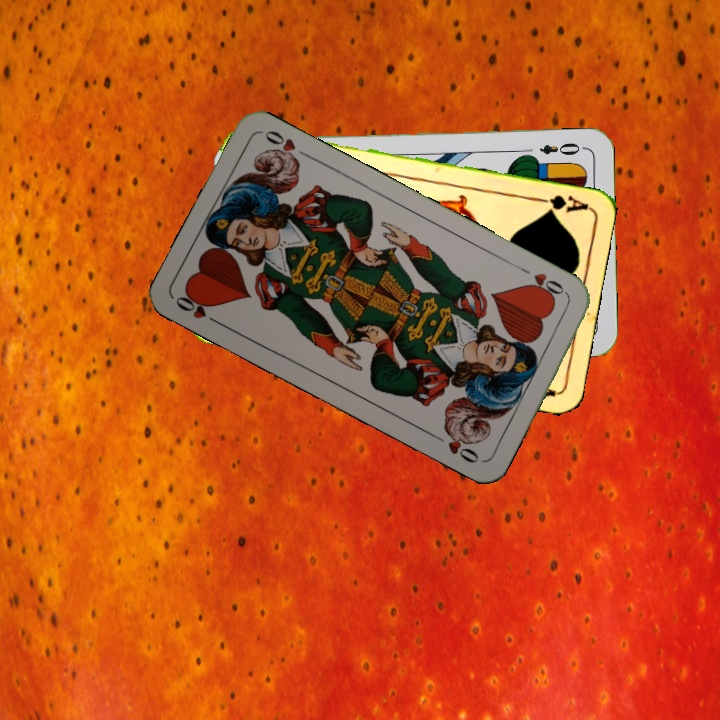EO: (536, 138, 588, 158)
GA: (531, 191, 591, 216)
HO: (171, 288, 226, 329), (516, 263, 571, 303)
